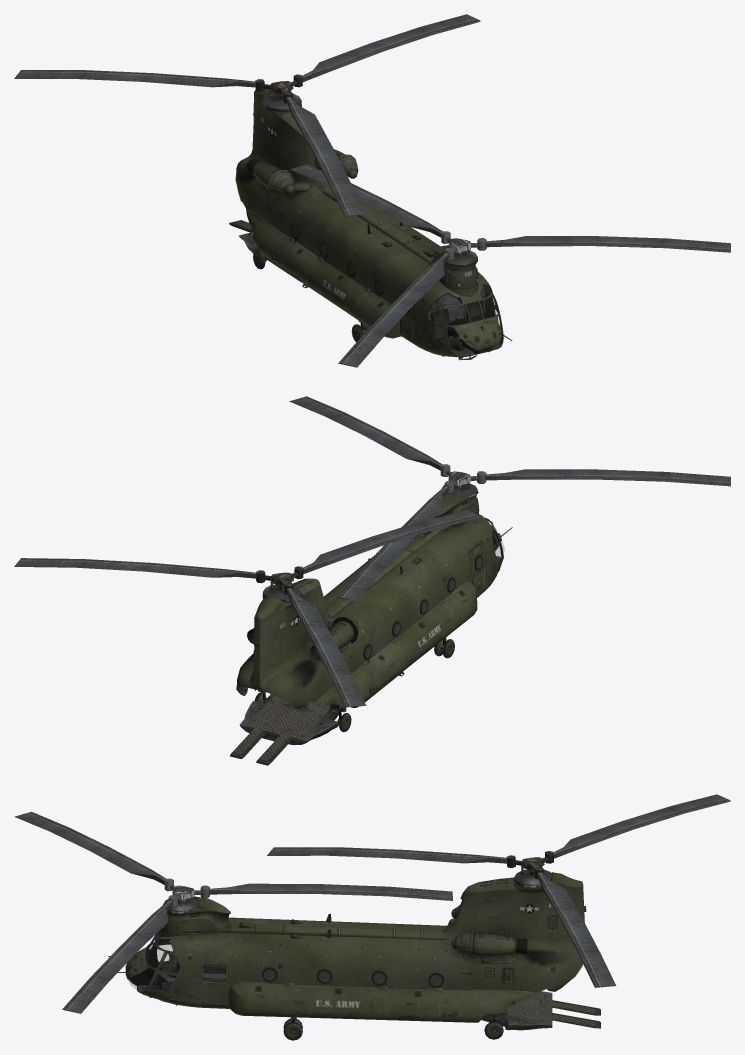
3 renders of one model, top to bottom at view 1: azimuth 30°, elevation 25°; view 2: azimuth 150°, elevation 25°; view 3: azimuth 270°, elevation 25°, orthographic.
Parts seen in each view (by area): view 1: Object_3, Object_7, Object_6, Object_8, Object_9; view 2: Object_3, Object_7, Object_6, Object_5, Object_9, Object_8; view 3: Object_3, Object_7, Object_6, Object_5, Object_9, Object_8, Object_2.
Boxes of the visible parts, bbox=[...] form: Object_3: bbox=[235, 89, 512, 360]; Object_7: bbox=[14, 14, 480, 216]; Object_6: bbox=[290, 164, 730, 367]; Object_8: bbox=[255, 74, 361, 216]; Object_9: bbox=[338, 231, 486, 367]; Object_3: bbox=[230, 483, 512, 765]; Object_7: bbox=[14, 510, 481, 707]; Object_6: bbox=[289, 396, 730, 601]; Object_5: bbox=[231, 688, 330, 765]; Object_9: bbox=[338, 464, 486, 600]; Object_8: bbox=[256, 566, 361, 707]; Object_3: bbox=[108, 869, 600, 1040]; Object_7: bbox=[267, 794, 730, 987]; Object_6: bbox=[14, 811, 452, 1013]; Object_5: bbox=[202, 973, 600, 1028]; Object_9: bbox=[62, 878, 452, 1013]; Object_8: bbox=[506, 851, 614, 987]; Object_2: bbox=[128, 935, 225, 989].
Bounding box in the file's own units: 213 × 77.21 × 313.
Materials: 5 (5 with a texture image).
